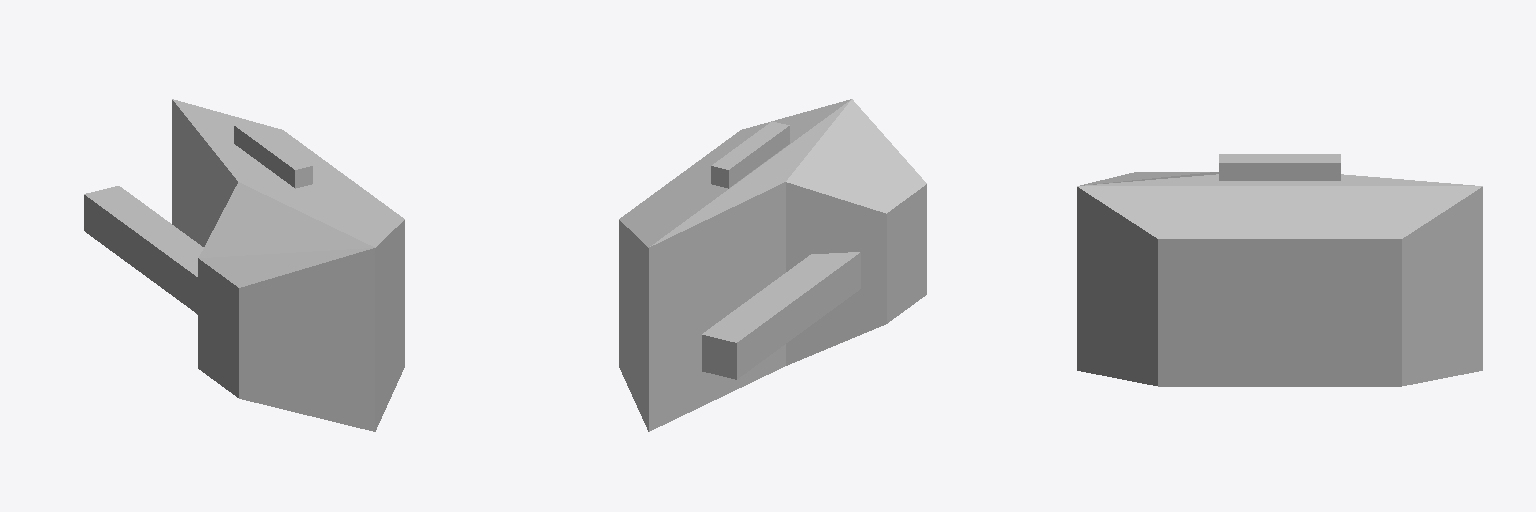
The model's file is heavytank1-z-x.obj.
3 views of the same model, side by side, from view 1: azimuth 30°, elevation 25°; view 2: azimuth 150°, elevation 25°; view 3: azimuth 270°, elevation 25° (orthographic).
Parts seen in each view (by area): view 1: Cube; view 2: Cube; view 3: Cube.
Part boxes in pixels (x1,y1,x2,y2): Cube: (84,99,404,431); Cube: (619,99,926,431); Cube: (1077,154,1482,386).
Bounding box in the file's own units: 1 × 1.15 × 2.